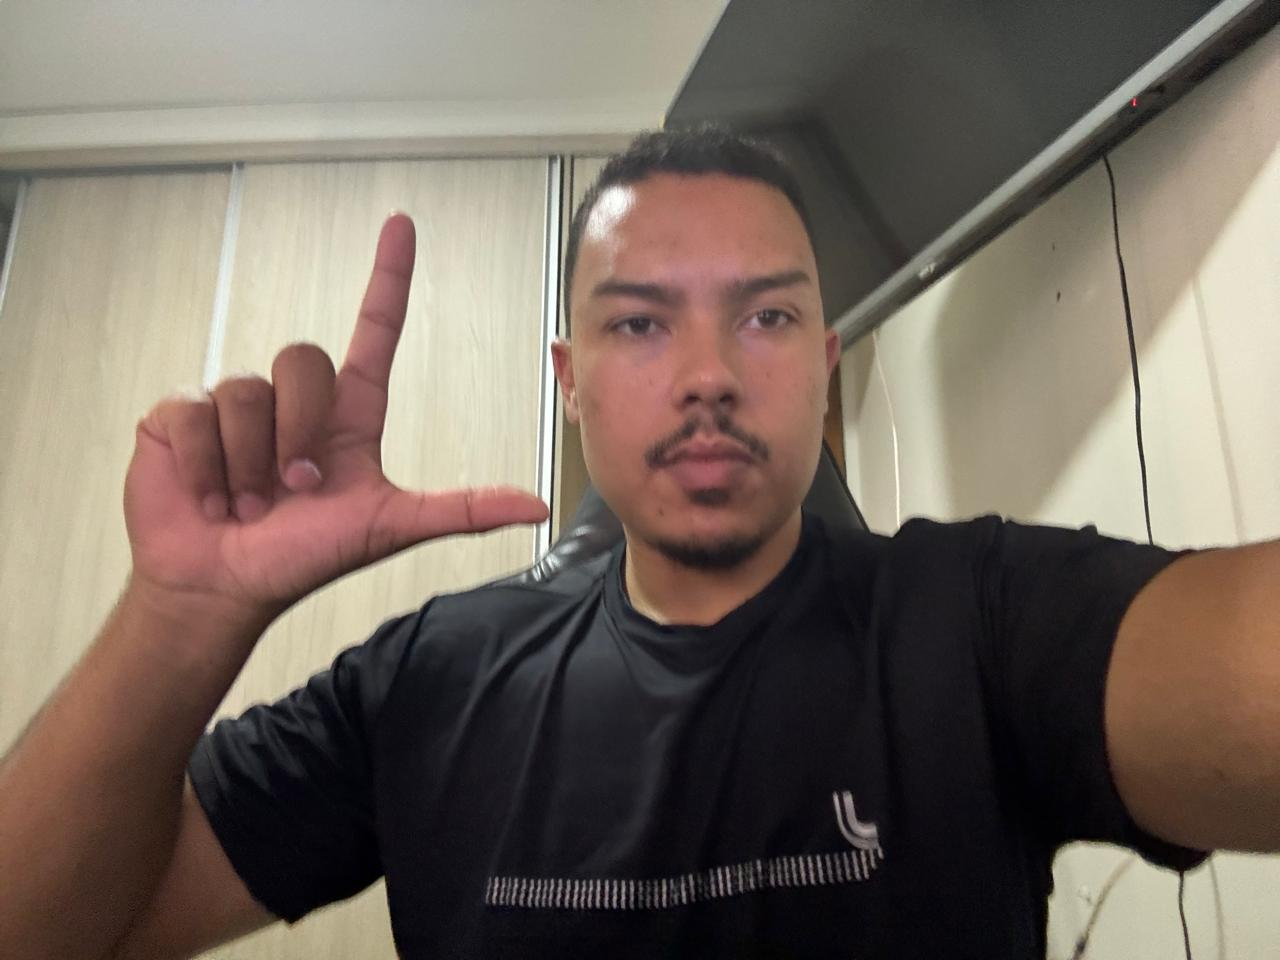l: (116, 197, 557, 646)
